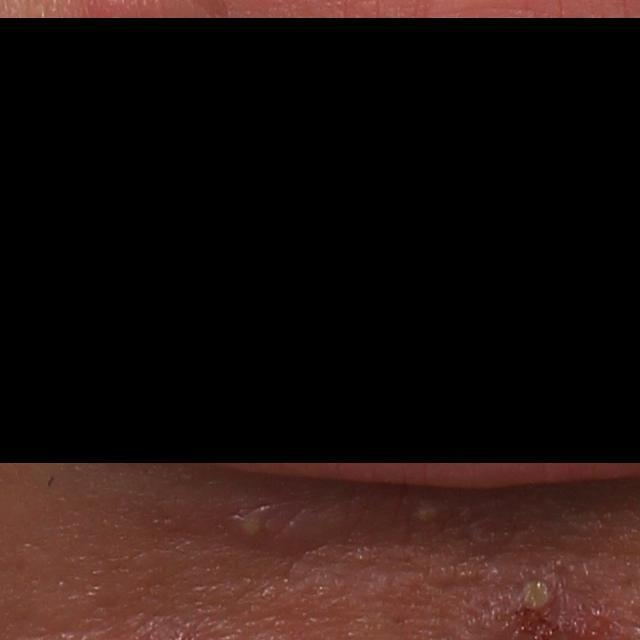pustule: (227, 495, 280, 545), (405, 494, 454, 533)
